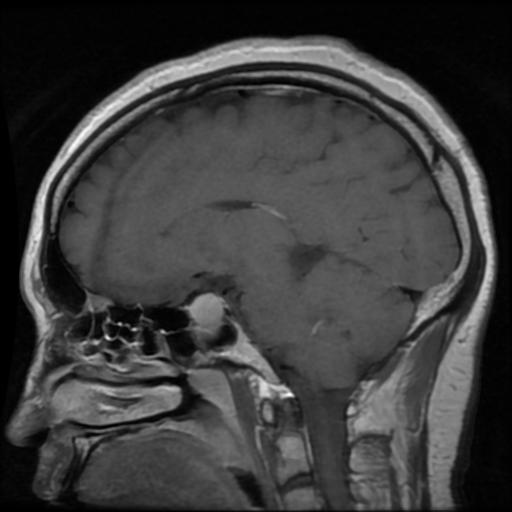Pituirity_tumour: (188, 292, 224, 325)
